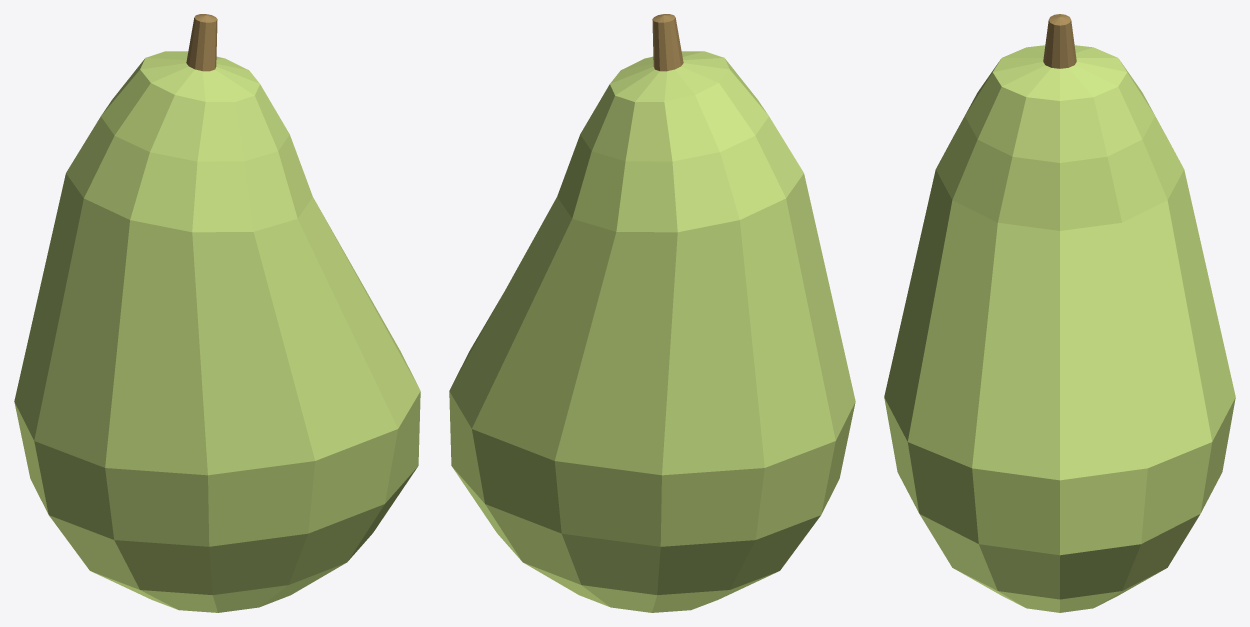
The model's file is lowpoly_pear.fbx.
3 views of the same model, side by side, from view 1: azimuth 30°, elevation 25°; view 2: azimuth 150°, elevation 25°; view 3: azimuth 270°, elevation 25° (orthographic). The views are drawn at different scales.
Visible parts, largest first — view 1: Sphere; view 2: Sphere; view 3: Sphere.
Part boxes in pixels (x1,y1,x2,y2): Sphere: (14,14,420,612); Sphere: (449,14,855,612); Sphere: (884,14,1235,612).
Size of the model in its own units: 189 by 289 by 162.
